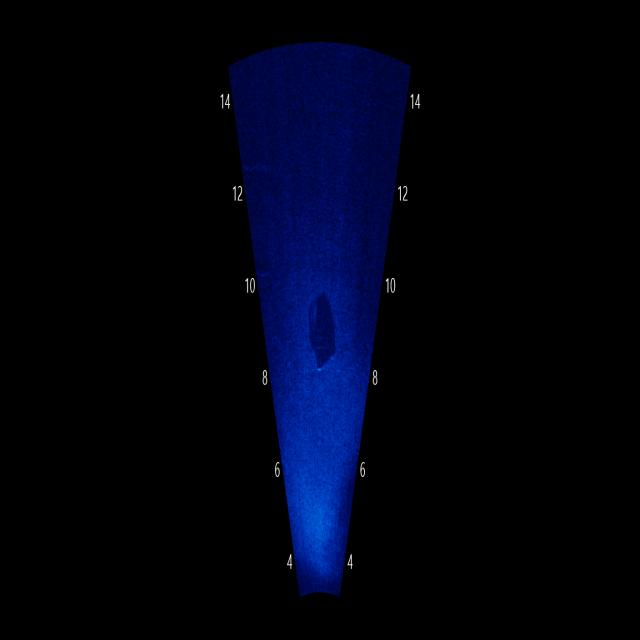square: (304, 267, 345, 390)
